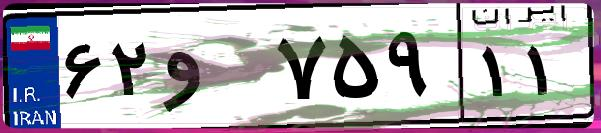1: (475, 38, 525, 113), (525, 38, 570, 115)
2: (110, 28, 158, 98)
5: (330, 28, 385, 110)
6: (57, 26, 110, 100)
7: (270, 28, 330, 110)
9: (385, 28, 445, 110)
و: (158, 20, 270, 120)
